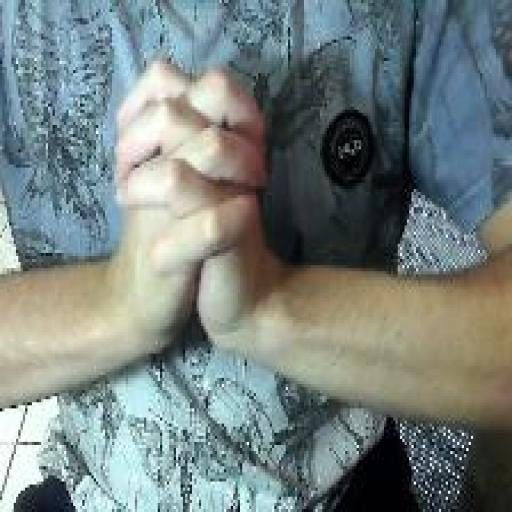Mi -snake-: (110, 53, 272, 352)
